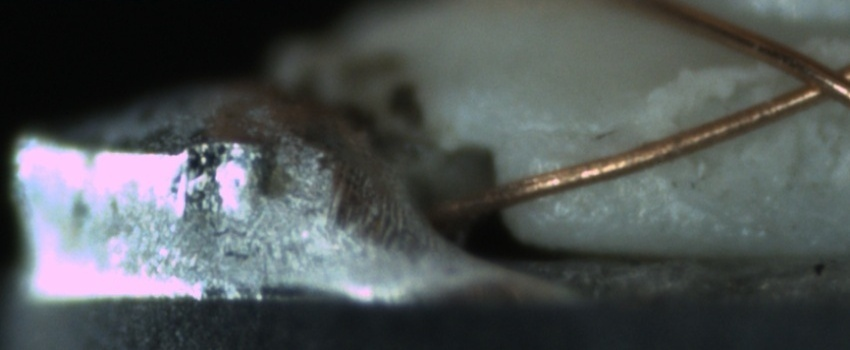CL: (769, 47, 849, 118)
DL: (522, 101, 618, 161)
